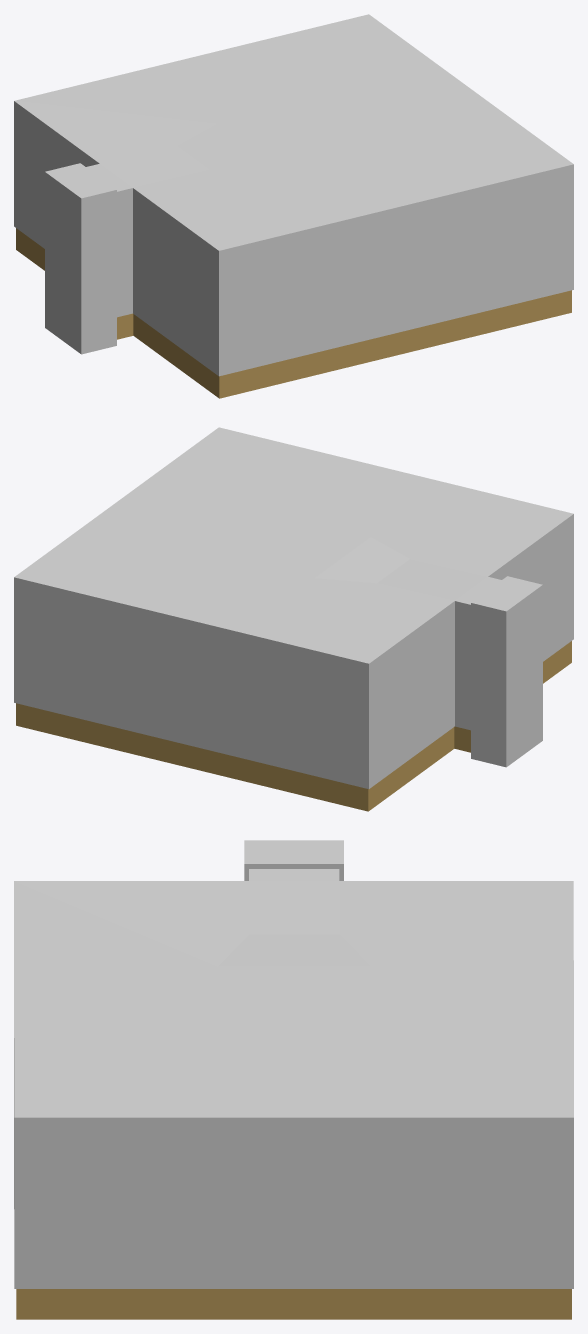
Rendered from gallery_1.glb.
3 views of the same model, one above another, from view 1: azimuth 30°, elevation 25°; view 2: azimuth 150°, elevation 25°; view 3: azimuth 270°, elevation 25° (orthographic). The views are drawn at different scales.
Parts seen in each view (by area): view 1: Cube.001, trigger.000; view 2: Cube.001, trigger.000; view 3: Cube.001, trigger.000.
Boxes of the visible parts, x1,y1,x2,y2 form: Cube.001: (14,14,573,398); trigger.000: (45,163,116,354); Cube.001: (14,427,573,811); trigger.000: (471,576,542,767); Cube.001: (14,869,573,1319); trigger.000: (244,840,343,880).
Bounding box in the file's own units: 11.5 × 4.2 × 10.
